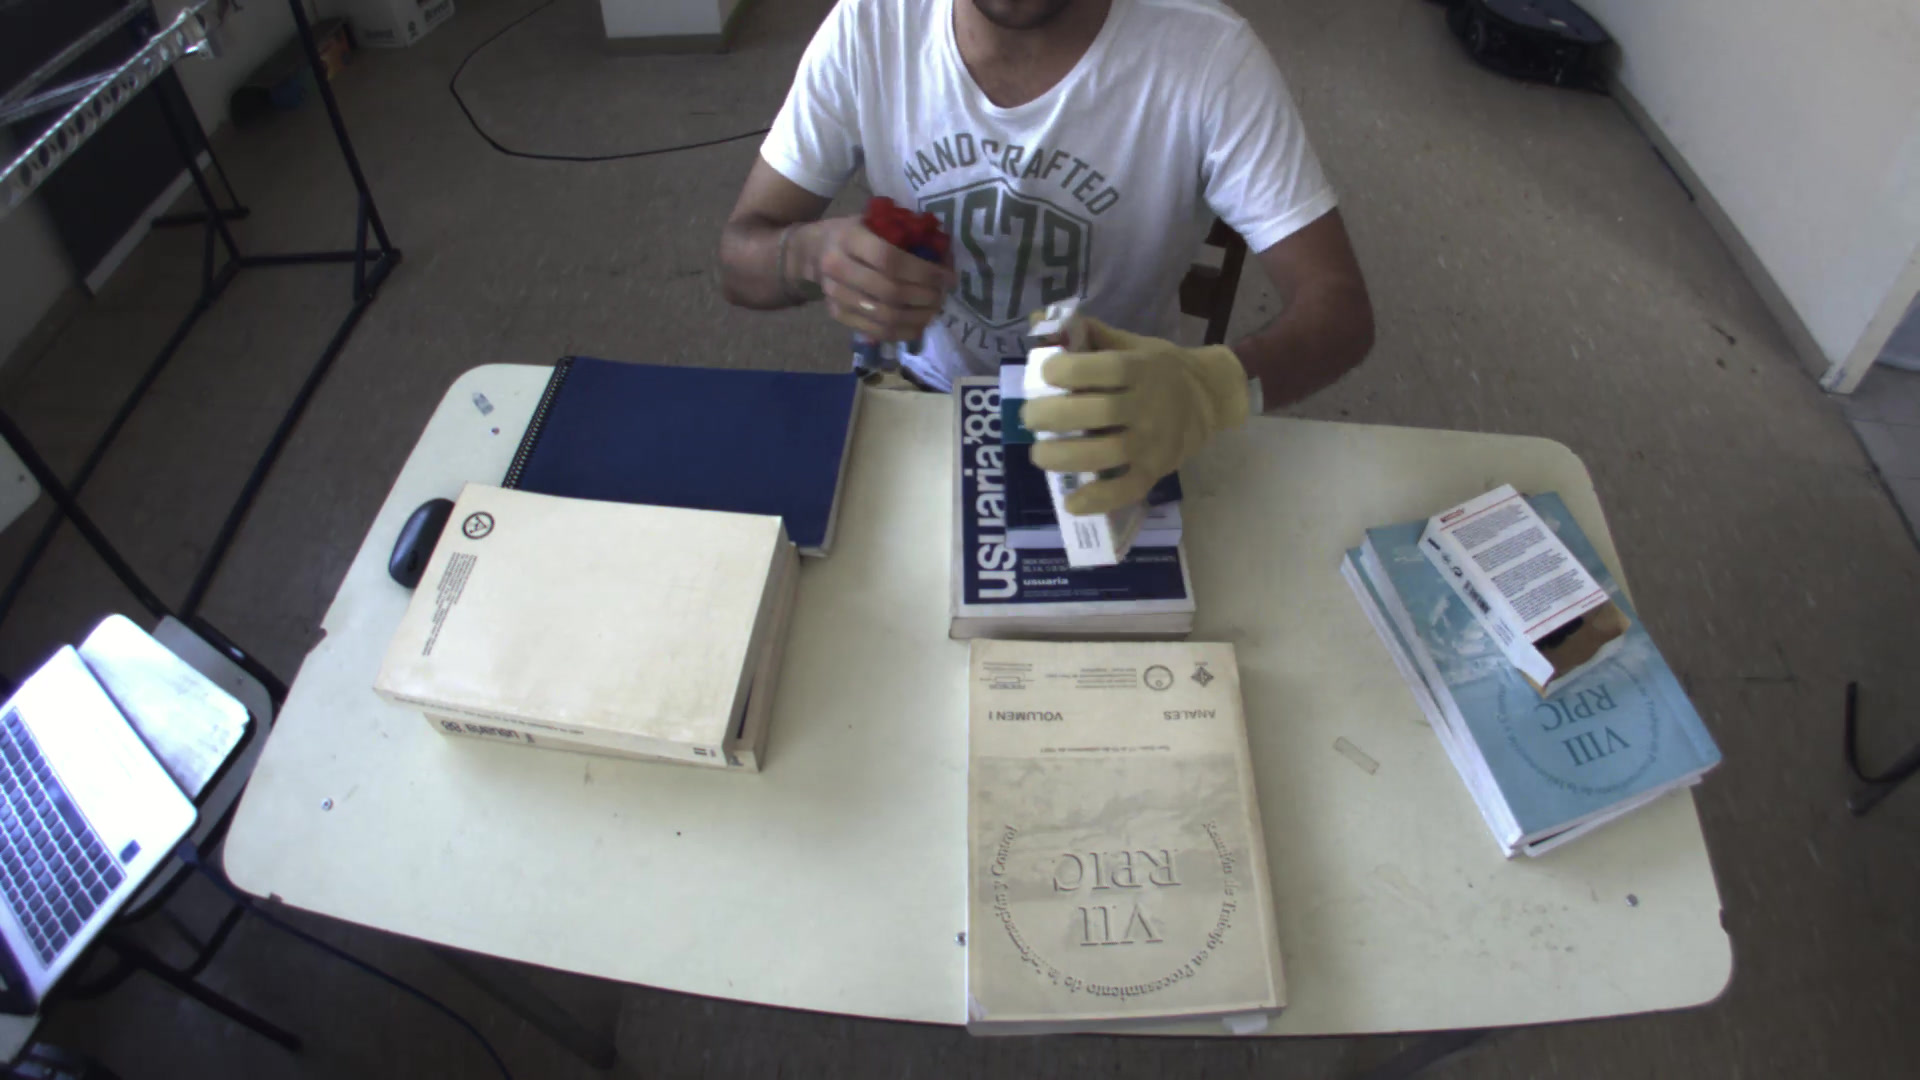hand: (1015, 294, 1265, 535), (775, 189, 972, 365)
